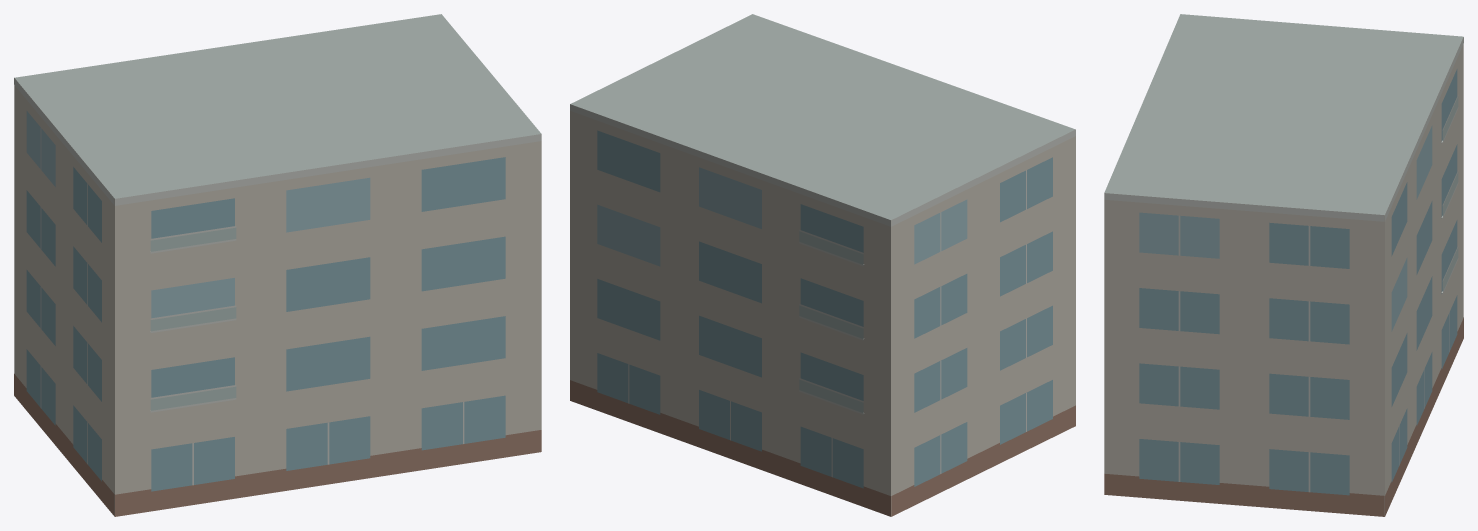
Rendered from survey-upis-32944802.glb.
3 renders of one model, left to right at view 1: azimuth 30°, elevation 25°; view 2: azimuth 150°, elevation 25°; view 3: azimuth 270°, elevation 25°, orthographic. The views are drawn at different scales.
Visible parts, largest first — view 1: survey-upis-32944802.tmp; view 2: survey-upis-32944802.tmp; view 3: survey-upis-32944802.tmp.
Part boxes in pixels (x1,y1,x2,y2): survey-upis-32944802.tmp: [14, 14, 541, 516]; survey-upis-32944802.tmp: [570, 14, 1075, 516]; survey-upis-32944802.tmp: [1104, 14, 1463, 516].
Size of the model in its own units: 15.74 by 11 by 11.89.
